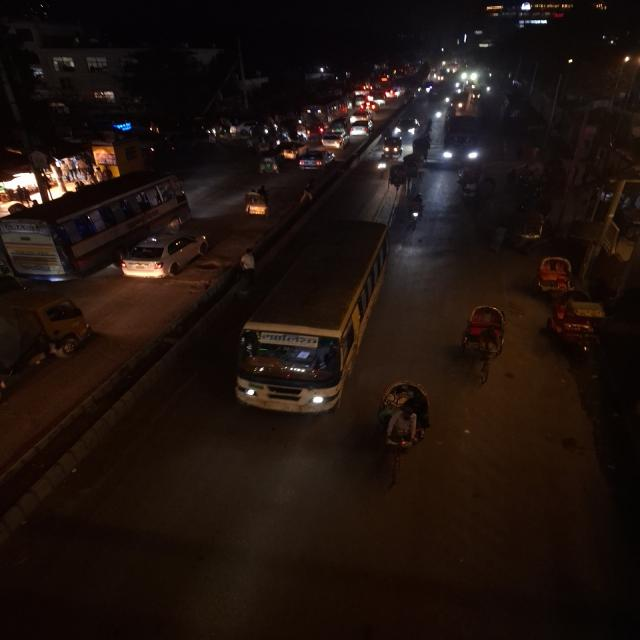bus: (228, 219, 392, 416), (1, 169, 193, 281), (441, 112, 484, 170)
car: (116, 230, 212, 282), (296, 149, 338, 172), (394, 116, 420, 138), (320, 132, 349, 150), (349, 120, 374, 136)
cng: (255, 150, 284, 176), (383, 134, 405, 157), (280, 140, 304, 160)
motorcycle: (405, 192, 429, 228), (374, 151, 389, 177)
rickshaw: (372, 379, 436, 487), (455, 303, 512, 385), (548, 287, 610, 354), (506, 205, 552, 255), (530, 254, 579, 298), (239, 183, 275, 221), (454, 162, 484, 203), (391, 151, 427, 185), (386, 162, 412, 192), (255, 150, 283, 176)
truck: (0, 292, 99, 412)
